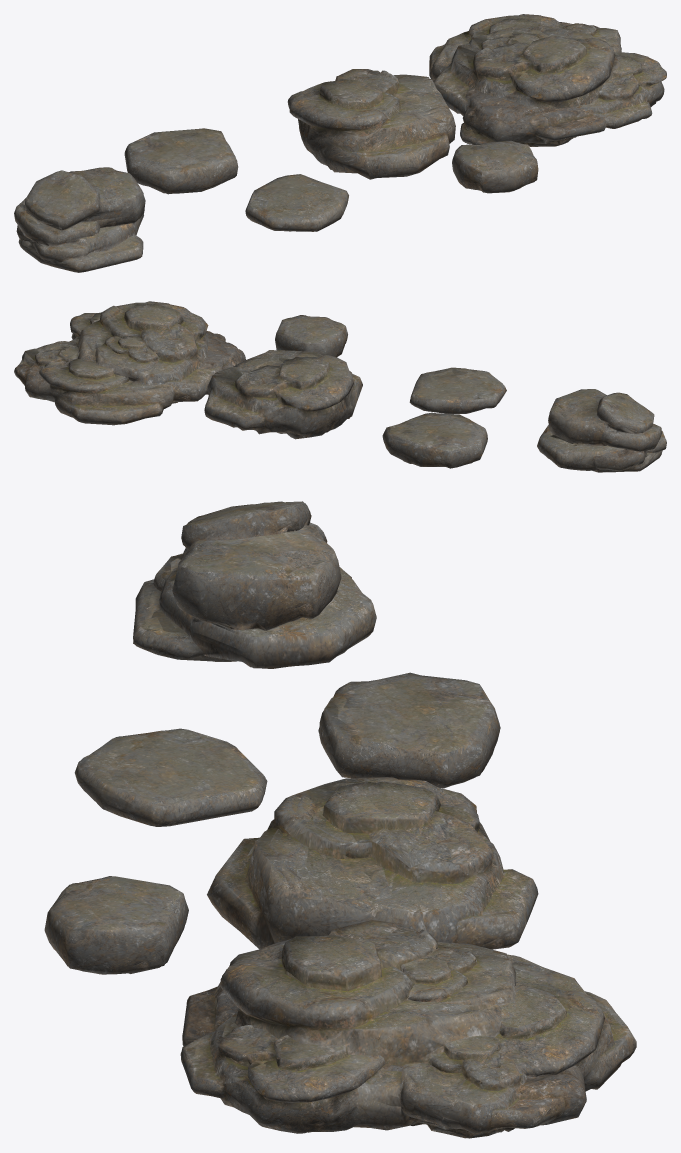
File: Stone_Flats_Rocks_1A1.fbx
The picture shows the model from 3 angles, top to bottom: view 1: azimuth 30°, elevation 25°; view 2: azimuth 150°, elevation 25°; view 3: azimuth 270°, elevation 25°; orthographic projection. The views are drawn at different scales.
Parts seen in each view (by area): view 1: Stone_Flats_1A6, Stone_Flats_1A6.001, Stone_Flats_1A5.001, Stone_Flats_1A4, Stone_Flats_1A4.001, Stone_Flats_1A1, Stone_Flats_1A5, Stone_Flats_1A2, Stone_Flats_1A3, Stone_Flats_1A1.001, Stone_Flats_1A2.001, Stone_Flats_1A3.001; view 2: Stone_Flats_1A6, Stone_Flats_1A6.001, Stone_Flats_1A5, Stone_Flats_1A4, Stone_Flats_1A4.001, Stone_Flats_1A1, Stone_Flats_1A2, Stone_Flats_1A5.001, Stone_Flats_1A3, Stone_Flats_1A1.001, Stone_Flats_1A2.001, Stone_Flats_1A3.001; view 3: Stone_Flats_1A6, Stone_Flats_1A6.001, Stone_Flats_1A5, Stone_Flats_1A5.001, Stone_Flats_1A4, Stone_Flats_1A4.001, Stone_Flats_1A1, Stone_Flats_1A2, Stone_Flats_1A3, Stone_Flats_1A1.001, Stone_Flats_1A2.001, Stone_Flats_1A3.001.
Boxes of the visible parts, box(x1,y1,x2,y2) form: Stone_Flats_1A6: box(429, 14, 666, 146); Stone_Flats_1A6.001: box(429, 14, 666, 146); Stone_Flats_1A5.001: box(293, 71, 455, 179); Stone_Flats_1A4: box(14, 167, 145, 272); Stone_Flats_1A4.001: box(14, 167, 145, 272); Stone_Flats_1A1: box(124, 128, 238, 193); Stone_Flats_1A5: box(287, 69, 446, 169); Stone_Flats_1A2: box(245, 174, 348, 231); Stone_Flats_1A3: box(452, 140, 538, 193); Stone_Flats_1A1.001: box(125, 128, 237, 194); Stone_Flats_1A2.001: box(245, 174, 348, 231); Stone_Flats_1A3.001: box(452, 140, 537, 193); Stone_Flats_1A6: box(14, 301, 245, 425); Stone_Flats_1A6.001: box(14, 301, 245, 424); Stone_Flats_1A5: box(204, 351, 356, 439); Stone_Flats_1A4: box(537, 389, 666, 472); Stone_Flats_1A4.001: box(537, 389, 666, 472); Stone_Flats_1A1: box(383, 412, 487, 468); Stone_Flats_1A2: box(410, 367, 506, 413); Stone_Flats_1A5.001: box(215, 350, 362, 421); Stone_Flats_1A3: box(275, 315, 347, 356); Stone_Flats_1A1.001: box(382, 413, 487, 468); Stone_Flats_1A2.001: box(409, 367, 506, 413); Stone_Flats_1A3.001: box(275, 315, 347, 356); Stone_Flats_1A6: box(180, 920, 635, 1138); Stone_Flats_1A6.001: box(181, 920, 636, 1138); Stone_Flats_1A5: box(247, 776, 538, 949); Stone_Flats_1A5.001: box(207, 778, 469, 949); Stone_Flats_1A4: box(133, 501, 376, 668); Stone_Flats_1A4.001: box(133, 502, 376, 668); Stone_Flats_1A1: box(319, 672, 499, 787); Stone_Flats_1A2: box(75, 730, 266, 826); Stone_Flats_1A3: box(44, 876, 188, 974); Stone_Flats_1A1.001: box(318, 675, 500, 788); Stone_Flats_1A2.001: box(75, 728, 267, 826); Stone_Flats_1A3.001: box(44, 876, 188, 974).
Size of the model in its own units: 7711 by 939 by 3427.
